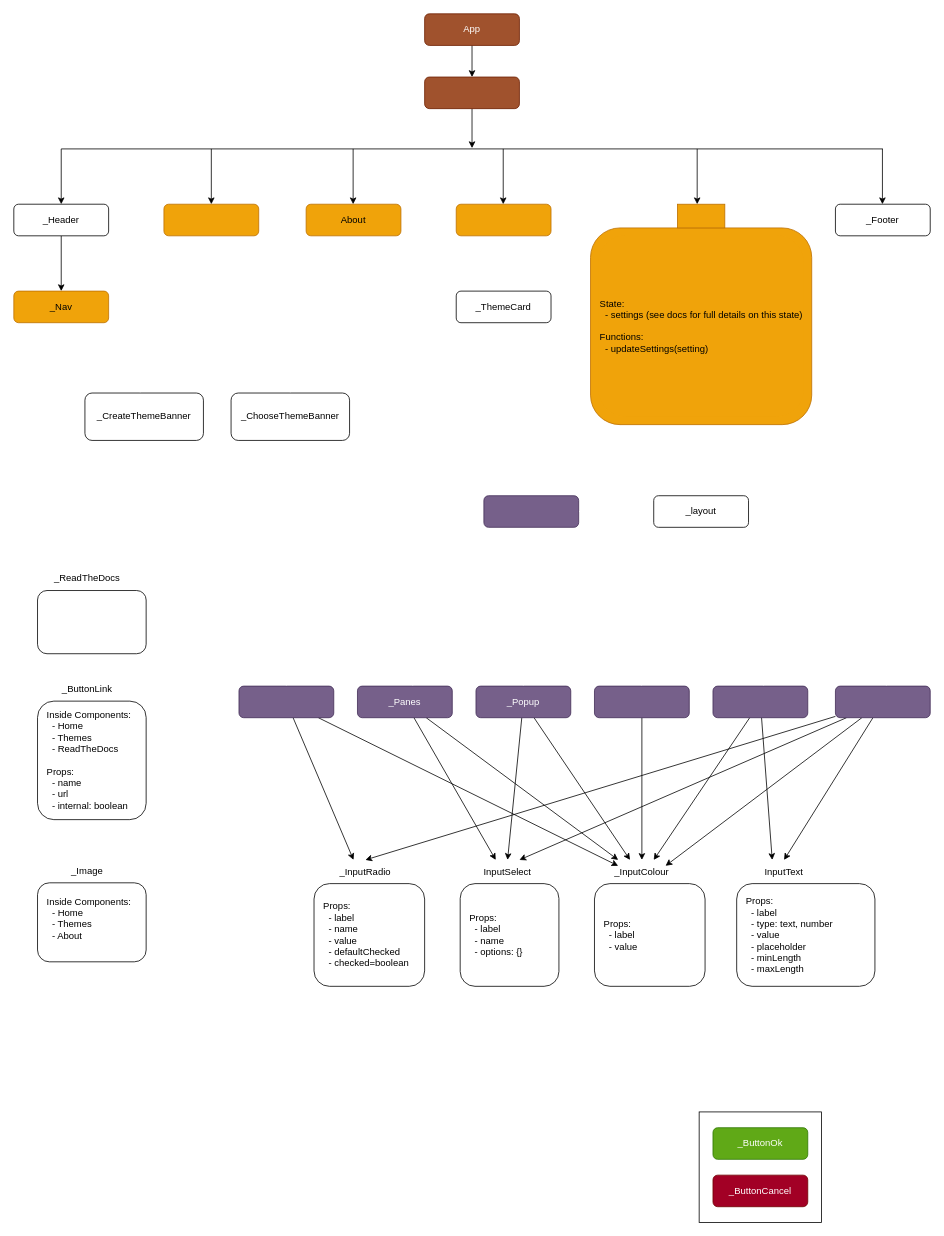
The diagram is 944 pixels wide and 1236 high, and some of its shapes have lost their labels. Here are the shapes that lost their labels. From the top down, the centre of each, then its label:
At point 471,92: "RootLayout".
At point 211,219: "Home".
At point 503,219: "Themes".
At point 701,215: "Create".
At point 531,511: "_CreateNav".
At point 91,622: "Inside Components: - Home - About".
At point 286,701: "_Clock".
At point 641,701: "_Prompt".
At point 760,701: "_Session".
At point 882,701: "_StatusBar".
